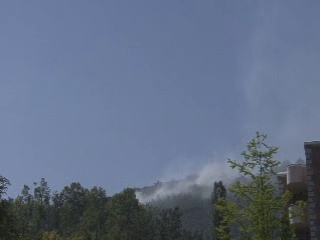smoke: (132, 157, 227, 205)
